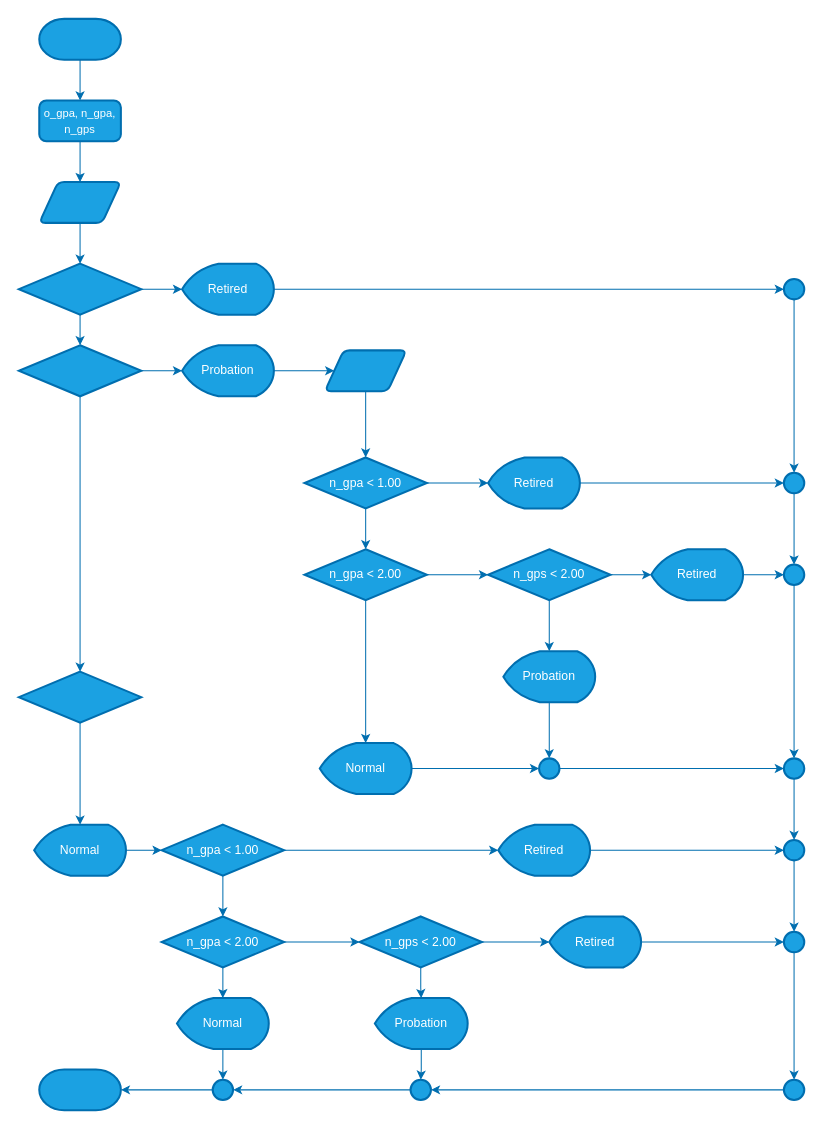
The diagram is 822 pixels wide and 1128 high, and some of its shapes have lost their labels. Here are the shapes that lost their labels. From the top down, the box of each, then its label:
(38, 17, 121, 60): Start
(38, 181, 121, 223): o_gpa
(17, 262, 142, 315): 0 < o_gpa < 1.00
(17, 344, 142, 397): o_gpa < 2.00
(323, 349, 407, 392): n_gpa, n_gps
(17, 670, 142, 723): o_gpa >= 2.00
(38, 1068, 121, 1111): End
